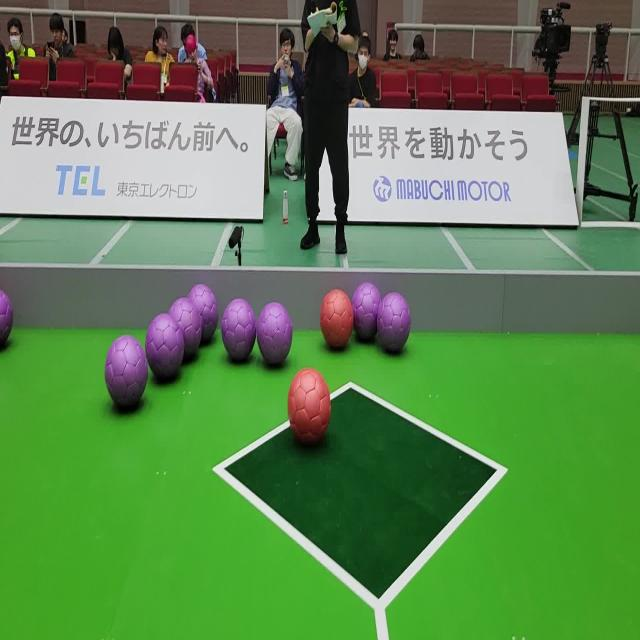purple_ball: (105, 333, 148, 413), (146, 312, 185, 384), (220, 297, 257, 364), (256, 302, 294, 366), (169, 296, 203, 362), (379, 294, 414, 354), (354, 281, 385, 339), (189, 283, 218, 343), (0, 291, 13, 343)
red_ball: (288, 368, 330, 446), (319, 289, 354, 349)
